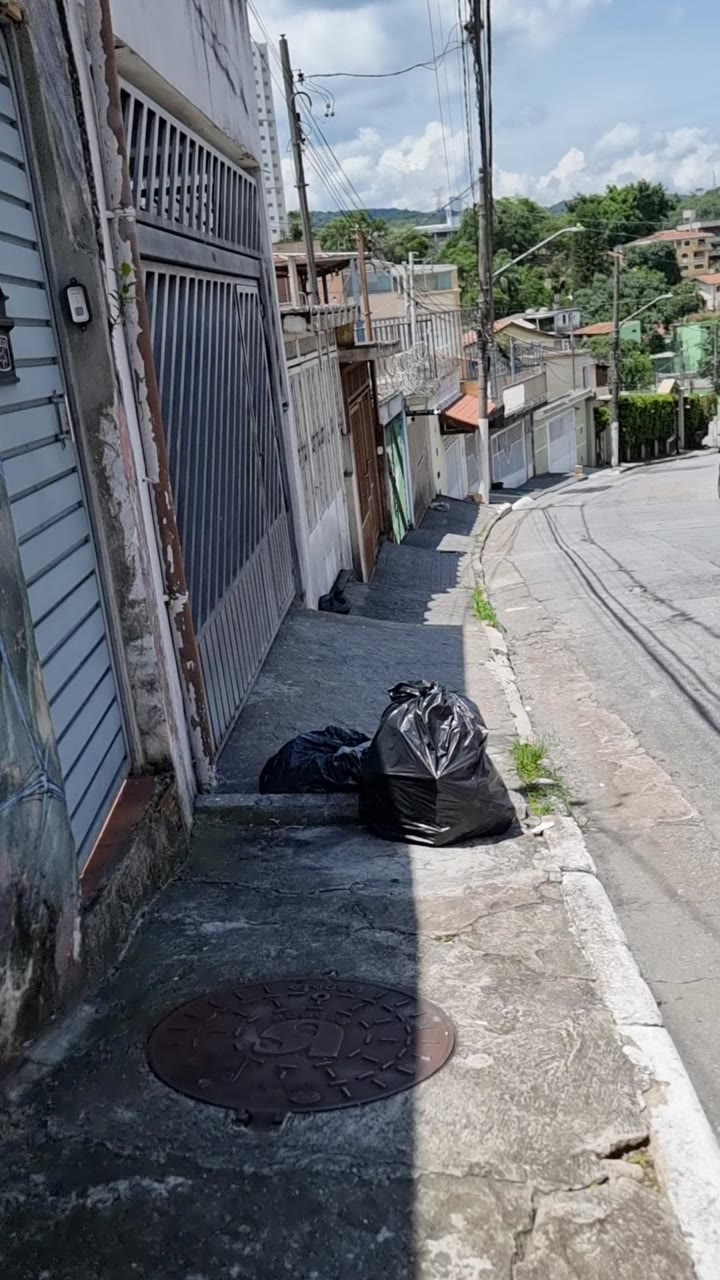obstaculo: (360, 681, 514, 846), (259, 726, 370, 793)
